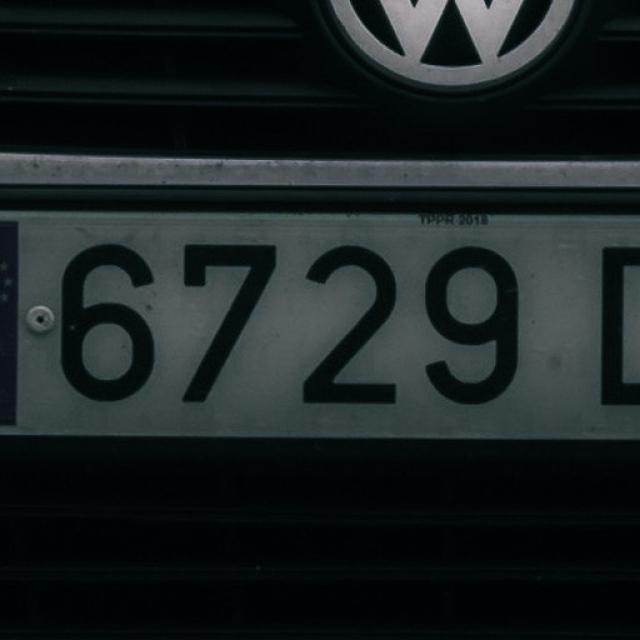licenseplate: (0, 168, 640, 484)
